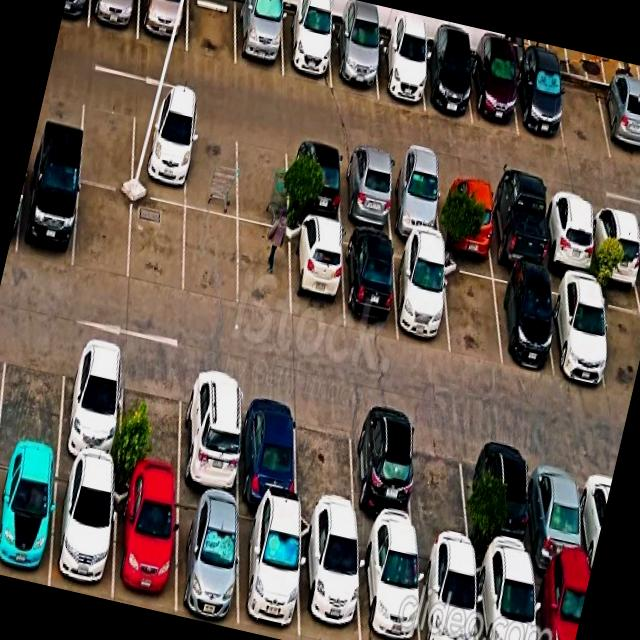car: (98, 488, 186, 612), (164, 504, 251, 626), (227, 517, 310, 640), (161, 396, 248, 512), (40, 478, 122, 598), (46, 370, 130, 482), (338, 426, 420, 540), (288, 535, 374, 640), (227, 413, 304, 529), (462, 444, 536, 558), (516, 464, 592, 572), (546, 284, 620, 394), (349, 545, 432, 640), (386, 248, 461, 352), (492, 272, 564, 377), (0, 463, 62, 583), (124, 100, 199, 198), (484, 182, 554, 284), (338, 233, 407, 336), (433, 164, 502, 266), (278, 224, 350, 320), (276, 136, 348, 229), (534, 196, 600, 296), (410, 557, 489, 640), (417, 23, 483, 122), (14, 173, 84, 265), (511, 42, 574, 142), (373, 10, 436, 109), (464, 36, 528, 132), (465, 570, 552, 640), (326, 0, 390, 95), (582, 204, 640, 305), (380, 160, 445, 250), (277, 0, 342, 84), (335, 150, 397, 236), (227, 0, 295, 78), (595, 60, 640, 155), (134, 0, 197, 45), (86, 0, 147, 36)
free: (109, 381, 190, 494), (0, 346, 73, 468), (282, 423, 364, 530), (398, 438, 474, 547), (434, 266, 511, 364), (120, 192, 192, 287), (180, 118, 248, 218), (232, 128, 302, 224), (66, 187, 139, 279), (69, 101, 140, 190), (226, 218, 295, 309), (550, 60, 616, 151), (176, 207, 243, 293), (179, 0, 249, 65)
